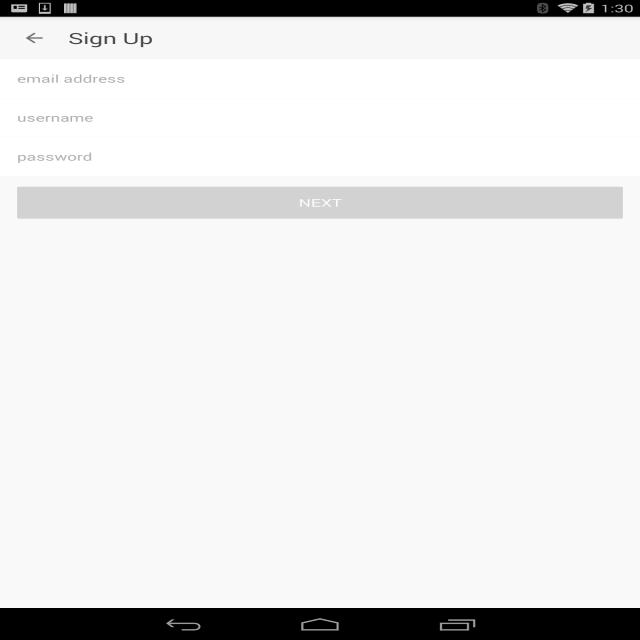Button: (12, 183, 631, 223)
ImageButton: (18, 27, 52, 47)
TextView: (13, 67, 132, 90), (61, 26, 158, 52)
